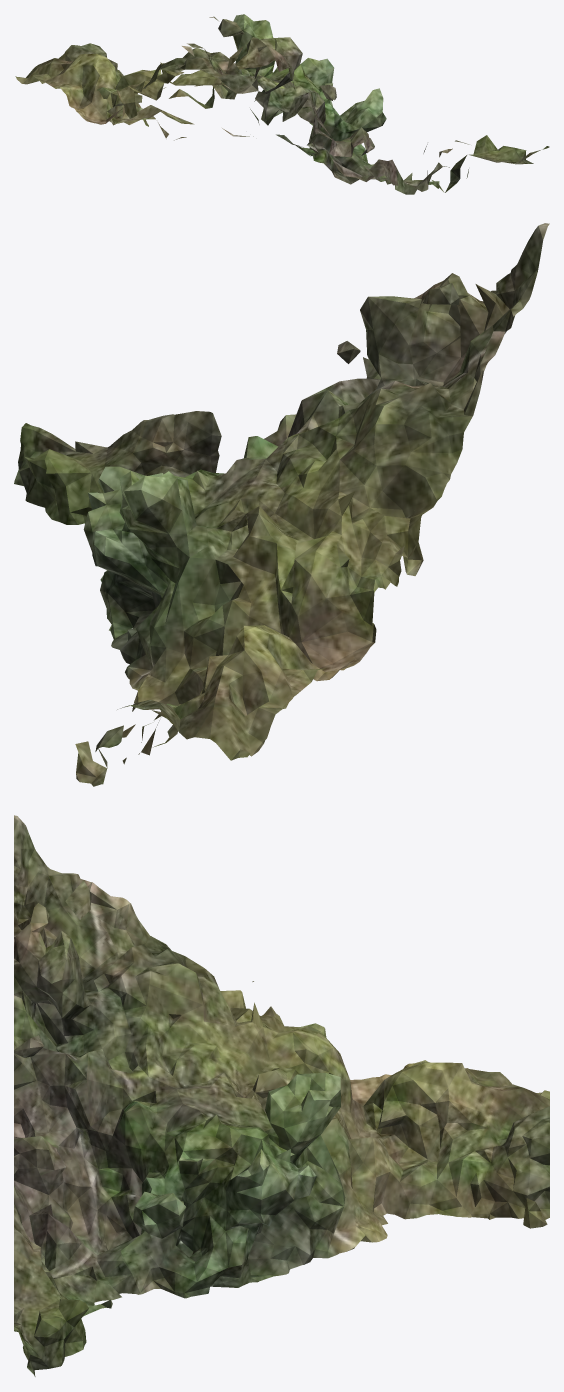
The picture shows the model from 3 angles, top to bottom: view 1: azimuth 30°, elevation 25°; view 2: azimuth 150°, elevation 25°; view 3: azimuth 270°, elevation 25°; orthographic projection. The views are drawn at different scales.
Size of the model in its own units: 5.9 by 4.08 by 5.9.
3 materials, 3 textured.
